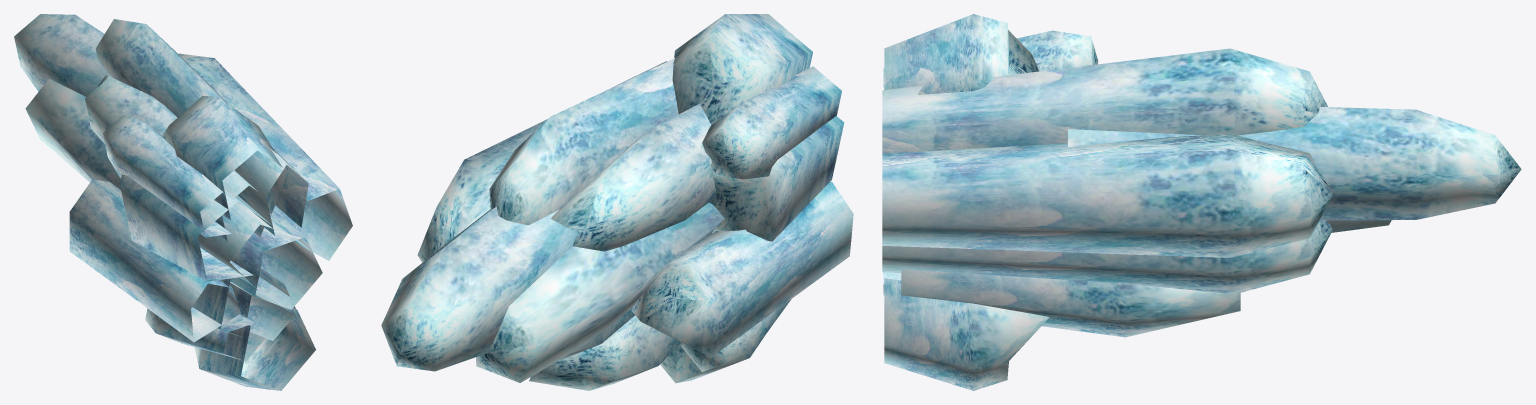
3 renders of one model, left to right at view 1: azimuth 30°, elevation 25°; view 2: azimuth 150°, elevation 25°; view 3: azimuth 270°, elevation 25°, orthographic. The views are drawn at different scales.
Parts seen in each view (by area): view 1: Object60; view 2: Object60; view 3: Object60.
Part boxes in pixels (left/top/right/bottom): Object60: left=14, top=14, right=352, bottom=390; Object60: left=381, top=14, right=853, bottom=390; Object60: left=882, top=14, right=1521, bottom=390.
Size of the model in its own units: 19041 by 28041 by 44973.
